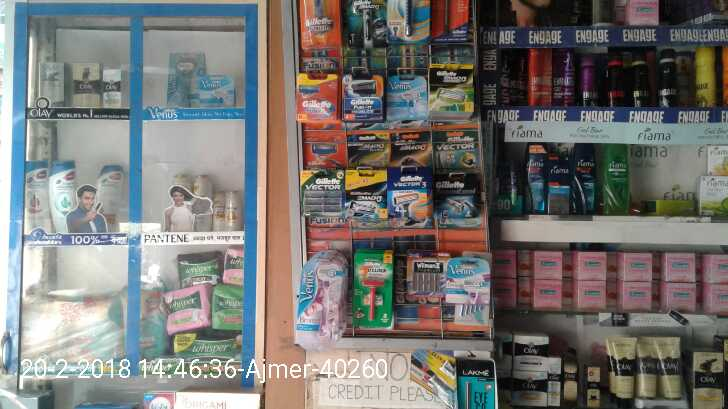gillete: (344, 168, 388, 228), (388, 170, 431, 228), (435, 176, 480, 228), (303, 168, 344, 218), (295, 74, 337, 121), (432, 68, 473, 114), (343, 76, 378, 122), (346, 1, 381, 47), (407, 252, 440, 300), (304, 1, 337, 48), (432, 1, 467, 44), (392, 132, 433, 167), (437, 131, 477, 166), (390, 1, 420, 40), (306, 133, 343, 164), (350, 132, 385, 162)
venus: (294, 251, 346, 352), (446, 253, 494, 308), (165, 53, 200, 103), (386, 76, 424, 122), (200, 73, 236, 103)
